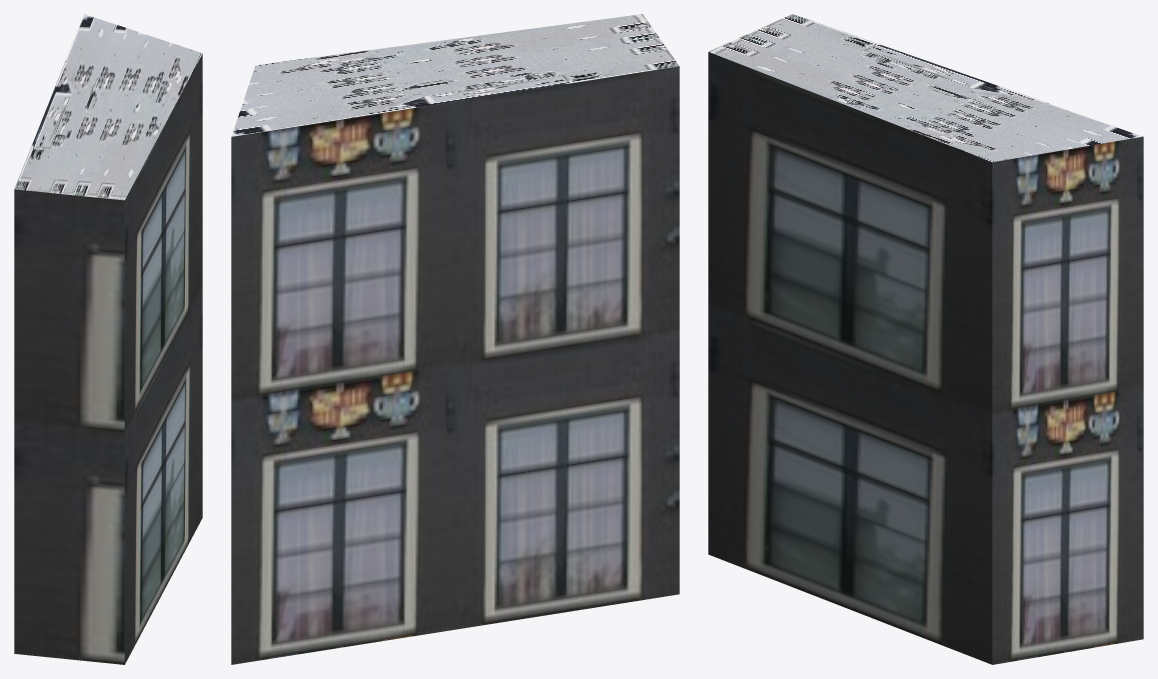
Rendered from ResTex__4810.fbx.
3 renders of one model, left to right at view 1: azimuth 30°, elevation 25°; view 2: azimuth 150°, elevation 25°; view 3: azimuth 270°, elevation 25°, orthographic. The views are drawn at different scales.
Parts seen in each view (by area): view 1: CityEngineMaterial_22_m, CityEngineMaterial_m; view 2: CityEngineMaterial_22_m, CityEngineMaterial_m; view 3: CityEngineMaterial_22_m, CityEngineMaterial_m.
Part boxes in pixels (<box>): CityEngineMaterial_22_m: <box>14,54,202,664</box>; CityEngineMaterial_m: <box>14,14,202,200</box>; CityEngineMaterial_22_m: <box>231,66,679,664</box>; CityEngineMaterial_m: <box>231,14,679,136</box>; CityEngineMaterial_22_m: <box>708,52,1143,664</box>; CityEngineMaterial_m: <box>708,14,1143,162</box>.
Size of the model in its own units: 3.8 by 6 by 4.71.
Materials: 2 (2 with a texture image).
